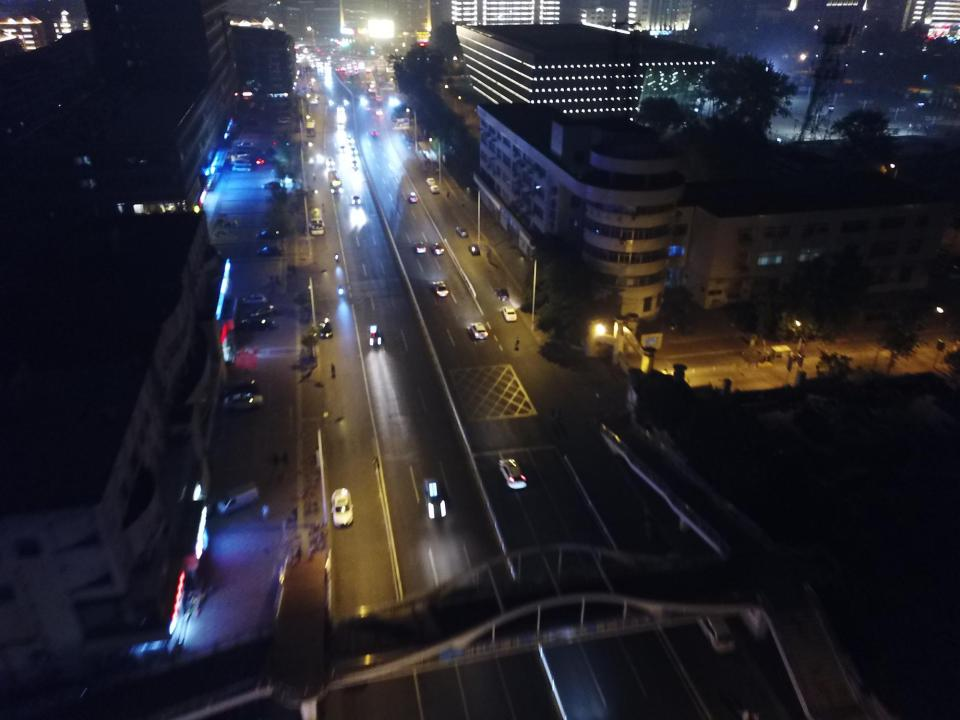car: (423, 475, 449, 521), (329, 488, 355, 529), (498, 457, 528, 489), (221, 392, 264, 411), (236, 315, 278, 333), (254, 224, 292, 241), (249, 302, 278, 320), (366, 324, 384, 348), (470, 321, 489, 341), (239, 292, 268, 305), (255, 245, 283, 258), (432, 278, 450, 298), (318, 318, 333, 340), (501, 304, 518, 322), (411, 240, 428, 254), (494, 287, 509, 302), (431, 241, 445, 256), (455, 224, 469, 238), (466, 243, 480, 256), (408, 192, 419, 204), (426, 177, 436, 186), (430, 185, 440, 193)
truck: (308, 207, 326, 236)
van: (214, 480, 260, 517)
